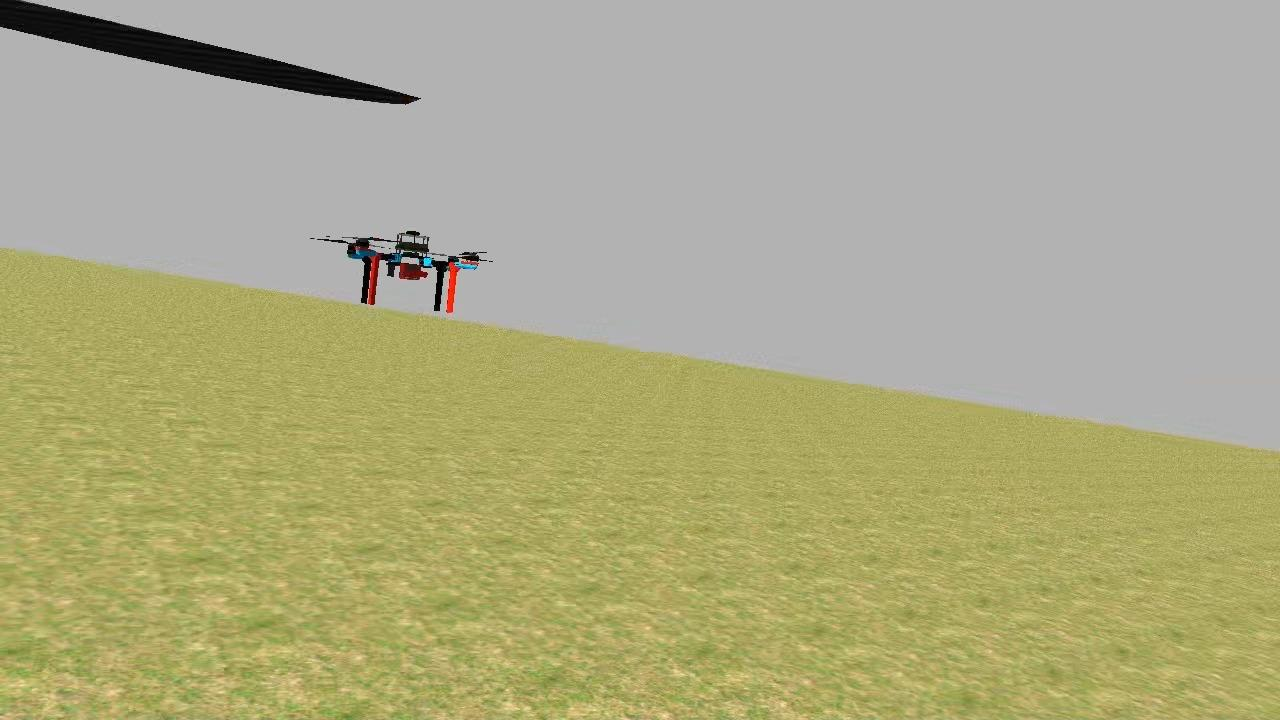UAV: (336, 224, 492, 320)
